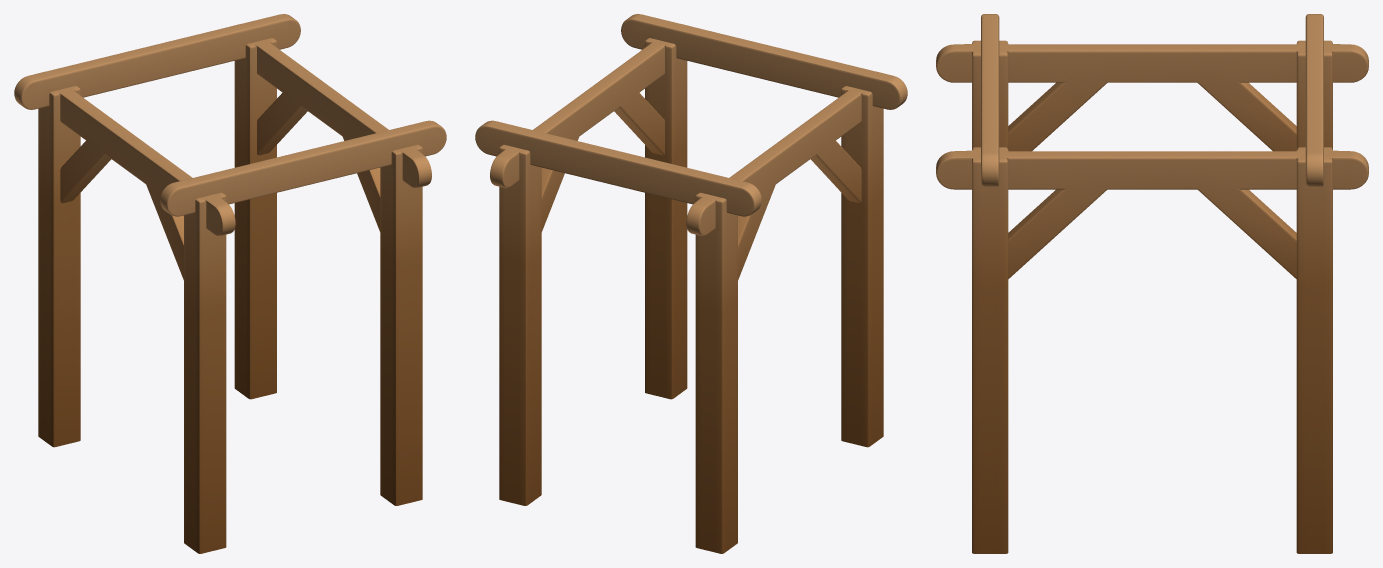
The model's file is trellis.fbx.
3 views of the same model, side by side, from view 1: azimuth 30°, elevation 25°; view 2: azimuth 150°, elevation 25°; view 3: azimuth 270°, elevation 25° (orthographic). The views are drawn at different scales.
Parts seen in each view (by area): view 1: Trellis; view 2: Trellis; view 3: Trellis.
Boxes of the visible parts, x1,y1,x2,y2 form: Trellis: [14, 14, 446, 553]; Trellis: [475, 14, 907, 553]; Trellis: [936, 14, 1368, 553].
Bounding box in the file's own units: 10 × 12.5 × 12.
